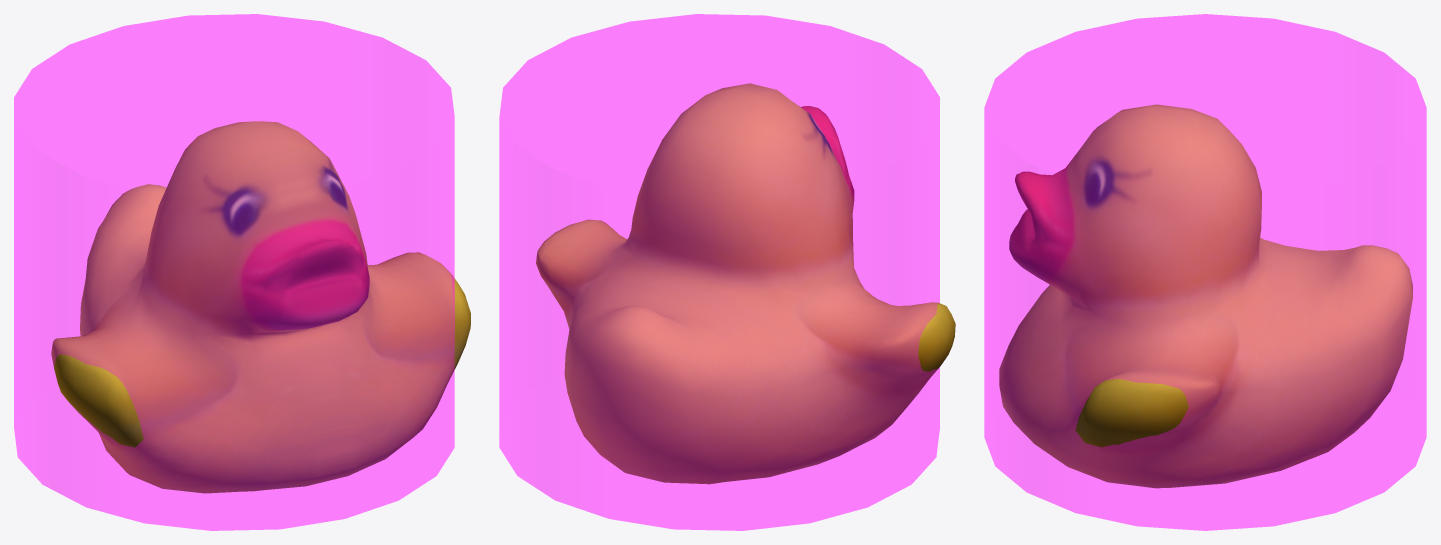
Rendered from babytoy_duck.fbx.
3 renders of one model, left to right at view 1: azimuth 30°, elevation 25°; view 2: azimuth 150°, elevation 25°; view 3: azimuth 270°, elevation 25°, orthographic.
Parts seen in each view (by area): view 1: toy_duck_boundingbox, toy_duck; view 2: toy_duck_boundingbox, toy_duck; view 3: toy_duck_boundingbox, toy_duck.
Boxes of the visible parts, <box> form: toy_duck_boundingbox: <box>14,14,454,530</box>; toy_duck: <box>51,121,470,493</box>; toy_duck_boundingbox: <box>499,14,939,530</box>; toy_duck: <box>536,83,955,484</box>; toy_duck_boundingbox: <box>984,14,1426,530</box>; toy_duck: <box>999,104,1412,488</box>.
Size of the model in its own units: 0.0656 by 0.0534 by 0.0646.
Materials: 2 (1 with a texture image).
